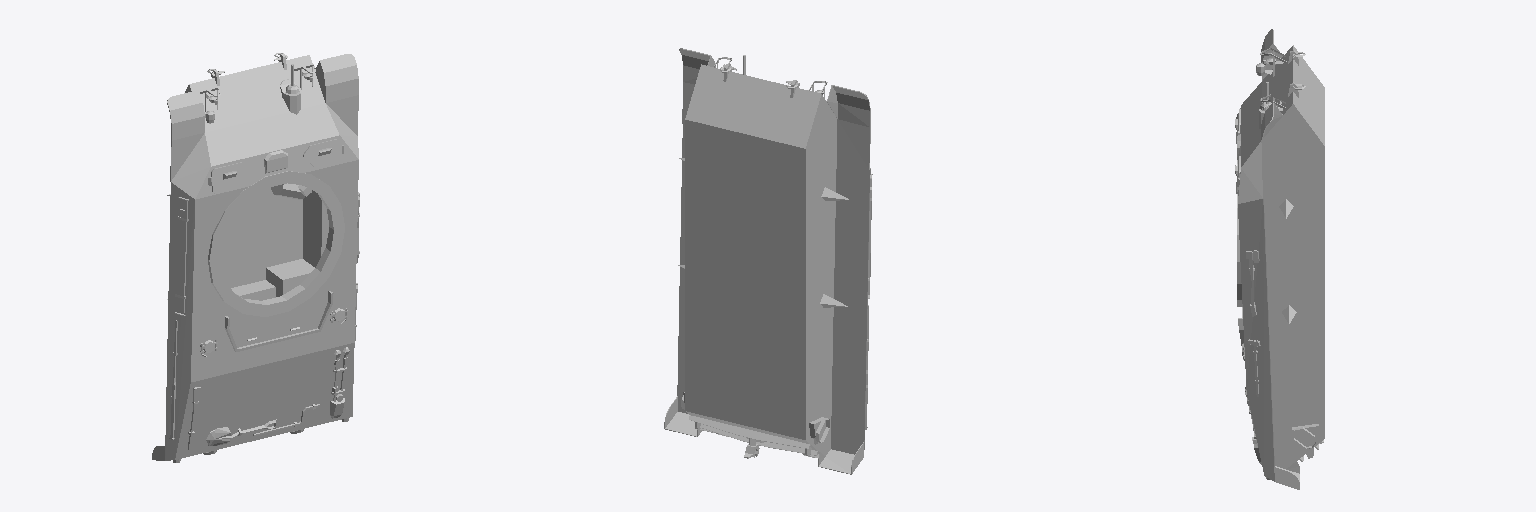
The model's file is Hull49.obj.
3 views of the same model, side by side, from view 1: azimuth 30°, elevation 25°; view 2: azimuth 150°, elevation 25°; view 3: azimuth 270°, elevation 25° (orthographic).
Visible parts, largest first — view 1: 3D_Object_1; view 2: 3D_Object_1; view 3: 3D_Object_1.
Boxes of the visible parts, box(x1,y1,x2,y2) form: 3D_Object_1: box(152, 53, 359, 462); 3D_Object_1: box(664, 48, 872, 474); 3D_Object_1: box(1235, 29, 1324, 489).
Size of the model in its own units: 2.62 by 5.05 by 1.1.